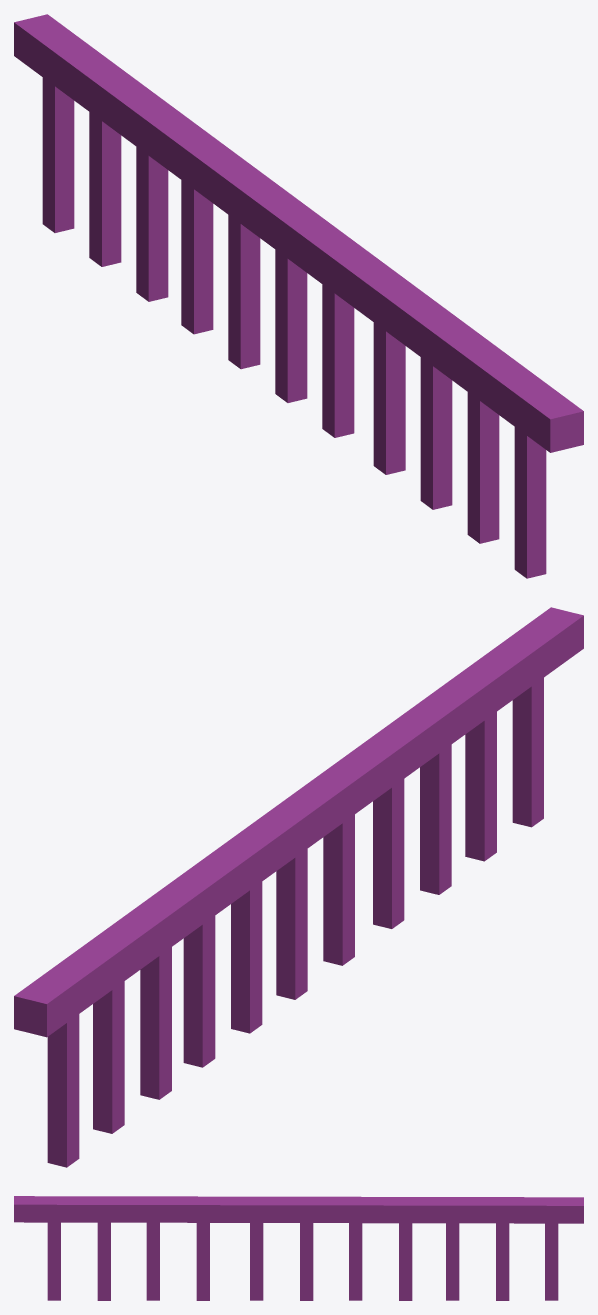
File: railing v2.fbx
3 renders of one model, top to bottom at view 1: azimuth 30°, elevation 25°; view 2: azimuth 150°, elevation 25°; view 3: azimuth 270°, elevation 25°, orthographic. The views are drawn at different scales.
Visible parts, largest first — view 1: Cube.031, Cube.046, Cube.044, Cube.045, Cube.042, Cube.043, Cube.040, Cube.041, Cube.038, Cube.039, Cube.036, Cube.037; view 2: Cube.031, Cube.046, Cube.043, Cube.045, Cube.044, Cube.042, Cube.040, Cube.041, Cube.038, Cube.039, Cube.037, Cube.036; view 3: Cube.031, Cube.036, Cube.037, Cube.038, Cube.039, Cube.040, Cube.041, Cube.042, Cube.043, Cube.044, Cube.045, Cube.046.
Boxes of the visible parts, x1=… form: Cube.031: x1=14, y1=14, x2=583, y2=452; Cube.046: x1=42, y1=77, x2=74, y2=232; Cube.044: x1=136, y1=147, x2=168, y2=301; Cube.045: x1=89, y1=112, x2=121, y2=266; Cube.042: x1=228, y1=215, x2=260, y2=369; Cube.043: x1=181, y1=180, x2=213, y2=334; Cube.040: x1=322, y1=284, x2=354, y2=437; Cube.041: x1=275, y1=249, x2=307, y2=402; Cube.038: x1=420, y1=357, x2=452, y2=509; Cube.039: x1=373, y1=322, x2=405, y2=474; Cube.036: x1=514, y1=427, x2=546, y2=578; Cube.037: x1=467, y1=392, x2=499, y2=543; Cube.031: x1=14, y1=607, x2=583, y2=1037; Cube.046: x1=47, y1=1014, x2=79, y2=1167; Cube.043: x1=183, y1=916, x2=215, y2=1067; Cube.045: x1=93, y1=981, x2=124, y2=1133; Cube.044: x1=140, y1=947, x2=171, y2=1099; Cube.042: x1=231, y1=882, x2=262, y2=1033; Cube.040: x1=323, y1=814, x2=354, y2=965; Cube.041: x1=276, y1=849, x2=307, y2=999; Cube.038: x1=420, y1=744, x2=451, y2=894; Cube.039: x1=373, y1=779, x2=404, y2=928; Cube.037: x1=465, y1=712, x2=496, y2=861; Cube.036: x1=512, y1=678, x2=543, y2=827; Cube.031: x1=14, y1=1196, x2=583, y2=1223; Cube.036: x1=47, y1=1222, x2=60, y2=1300; Cube.037: x1=97, y1=1222, x2=110, y2=1300; Cube.038: x1=146, y1=1222, x2=159, y2=1300; Cube.039: x1=196, y1=1223, x2=209, y2=1300; Cube.040: x1=250, y1=1223, x2=263, y2=1300; Cube.041: x1=300, y1=1223, x2=313, y2=1300; Cube.042: x1=349, y1=1223, x2=362, y2=1300; Cube.043: x1=399, y1=1223, x2=412, y2=1300; Cube.044: x1=446, y1=1223, x2=459, y2=1300; Cube.045: x1=496, y1=1223, x2=509, y2=1300; Cube.046: x1=545, y1=1223, x2=558, y2=1300.
Size of the model in its own units: 13.19 by 61.21 by 325.
